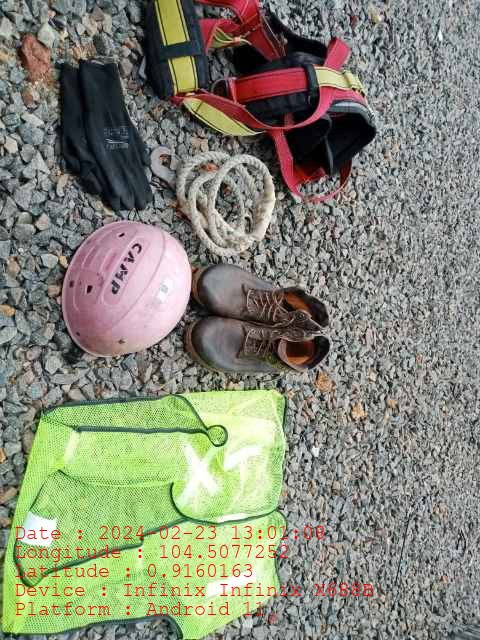HELM: (64, 219, 190, 355)
SEPATU: (195, 264, 331, 379)
